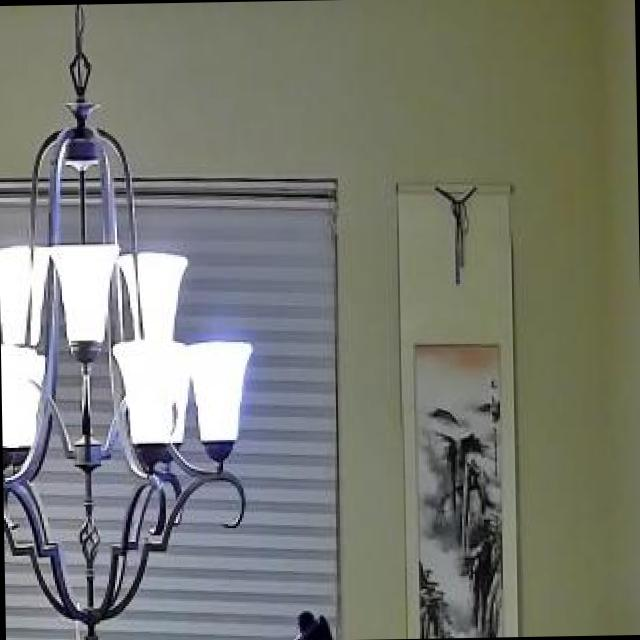Guns: (108, 571, 357, 640)
